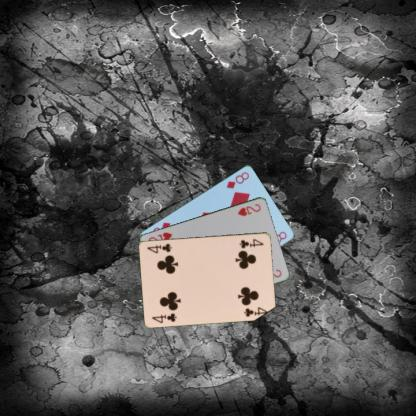2h: (235, 201, 262, 217)
4c: (237, 235, 265, 250), (150, 310, 178, 324)
8d: (224, 168, 250, 190)
